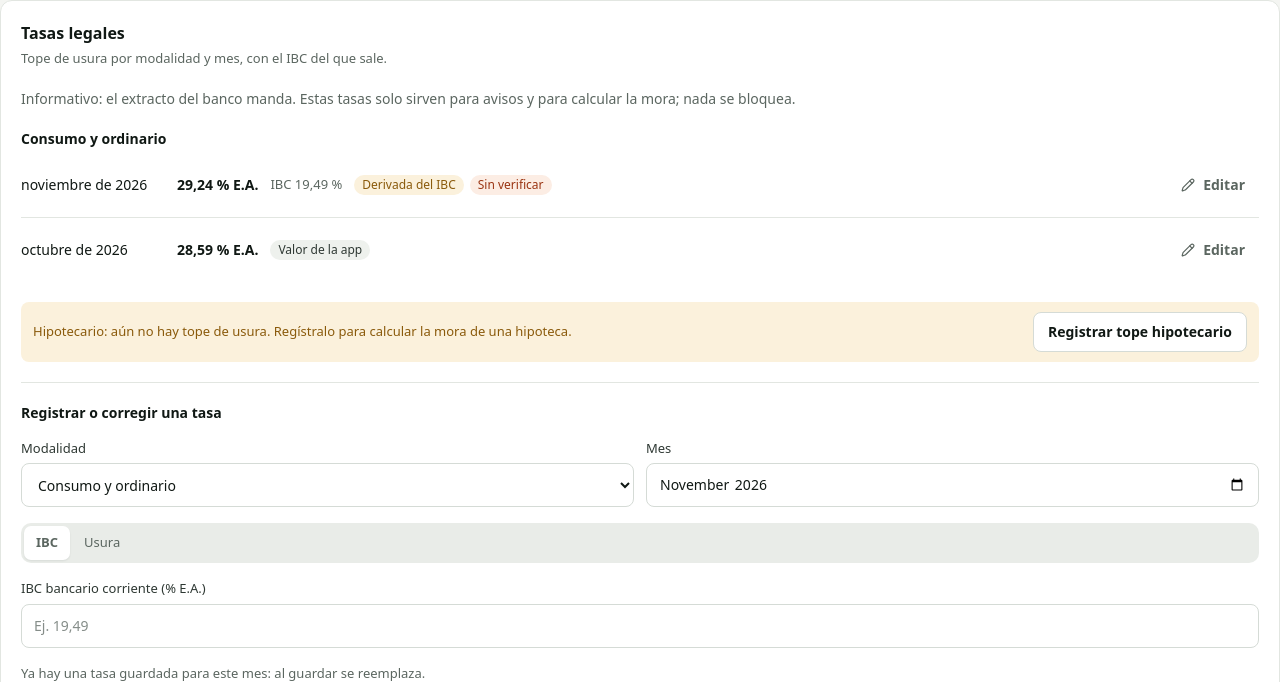
Test case: LegalRatesPanel rate form › echoes nothing when the member types the usury itself
Click the button "Usura" at x=102, y=543, box [72,526,132,560]
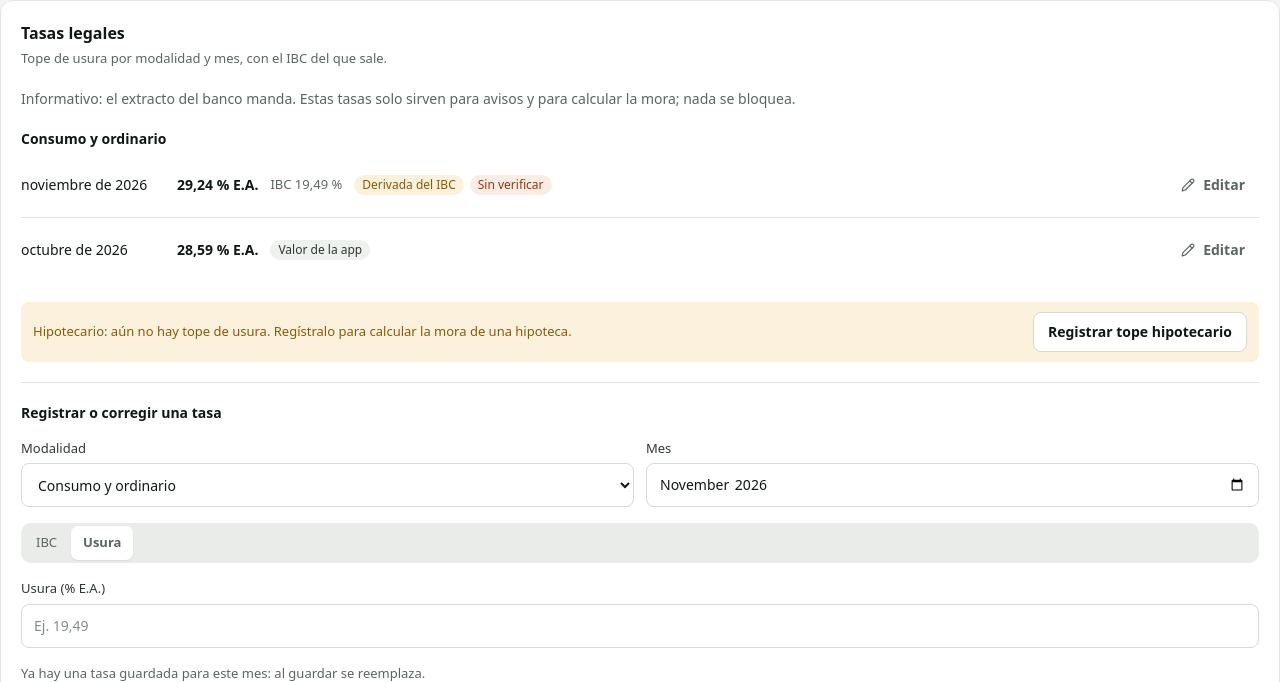
Type "29,24" into the field labelled "Usura (% E.A.)" at x=640, y=626, box [21,604,1259,648]
(page scrolled)
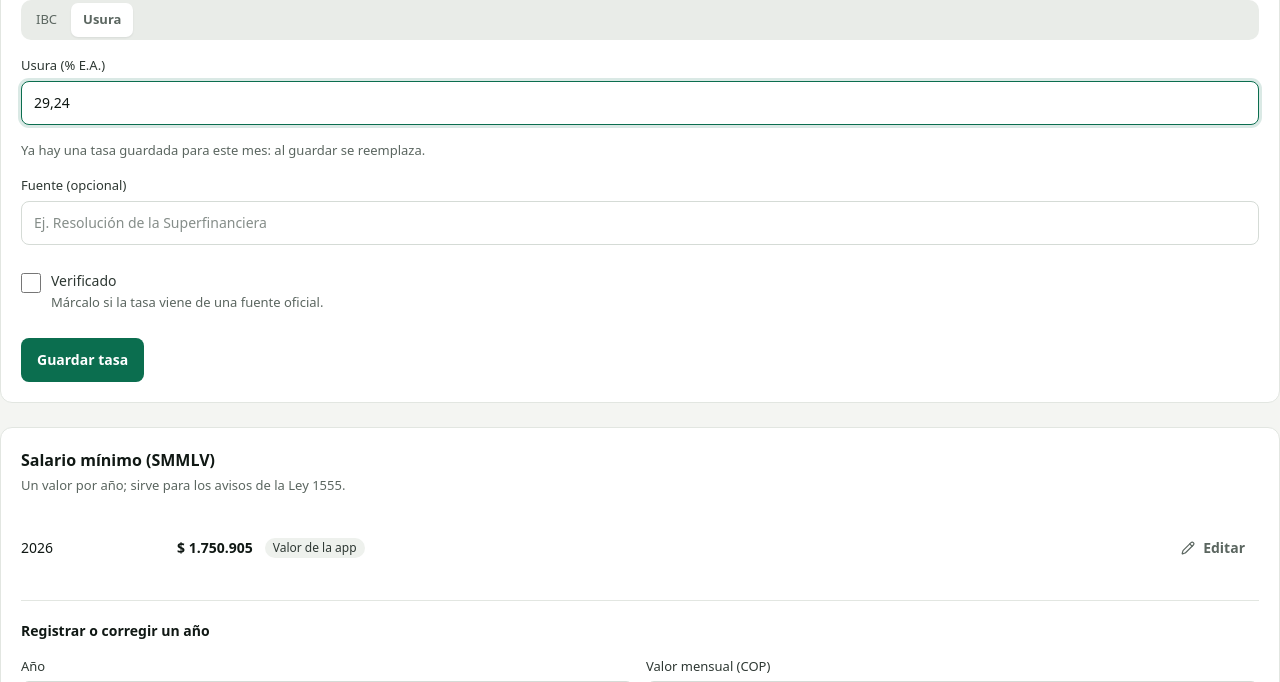
Now the button "Guardar tasa" is enabled, box [21,338,144,382]
